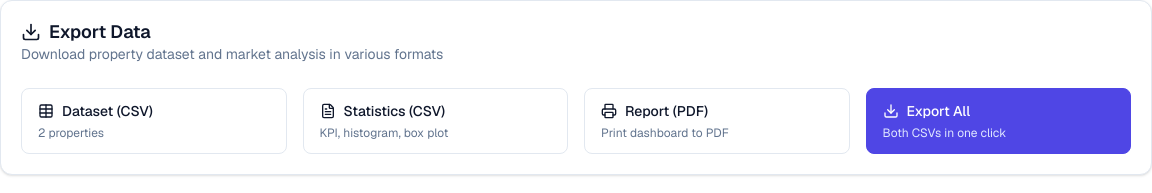
Test: ExportPanel › export actions › shows error message when export fails
Step 1. Click the text "Dataset (CSV)" → point(95, 110), box [38, 100, 153, 120]
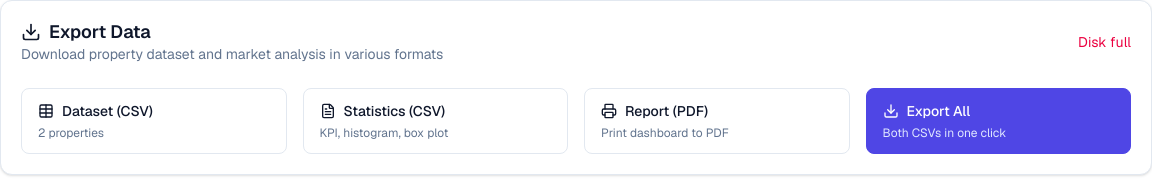
Expected: the text "Disk full" is shown, [1078, 32, 1131, 52]
